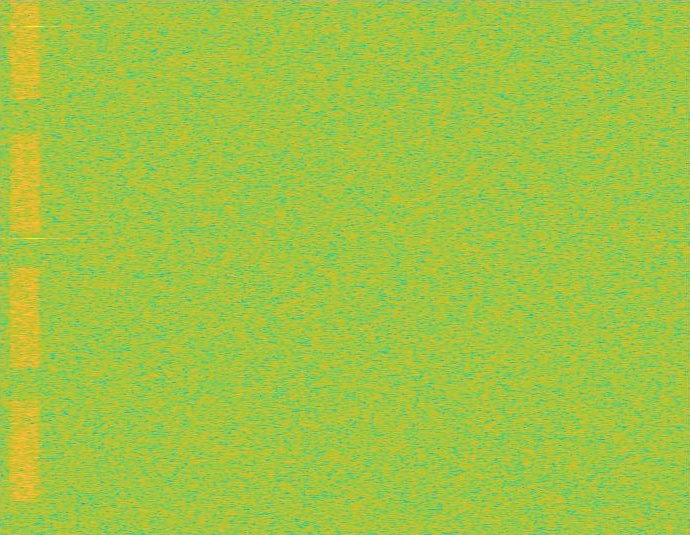5G: (8, 0, 43, 534)
Radar: (27, 0, 41, 534)
